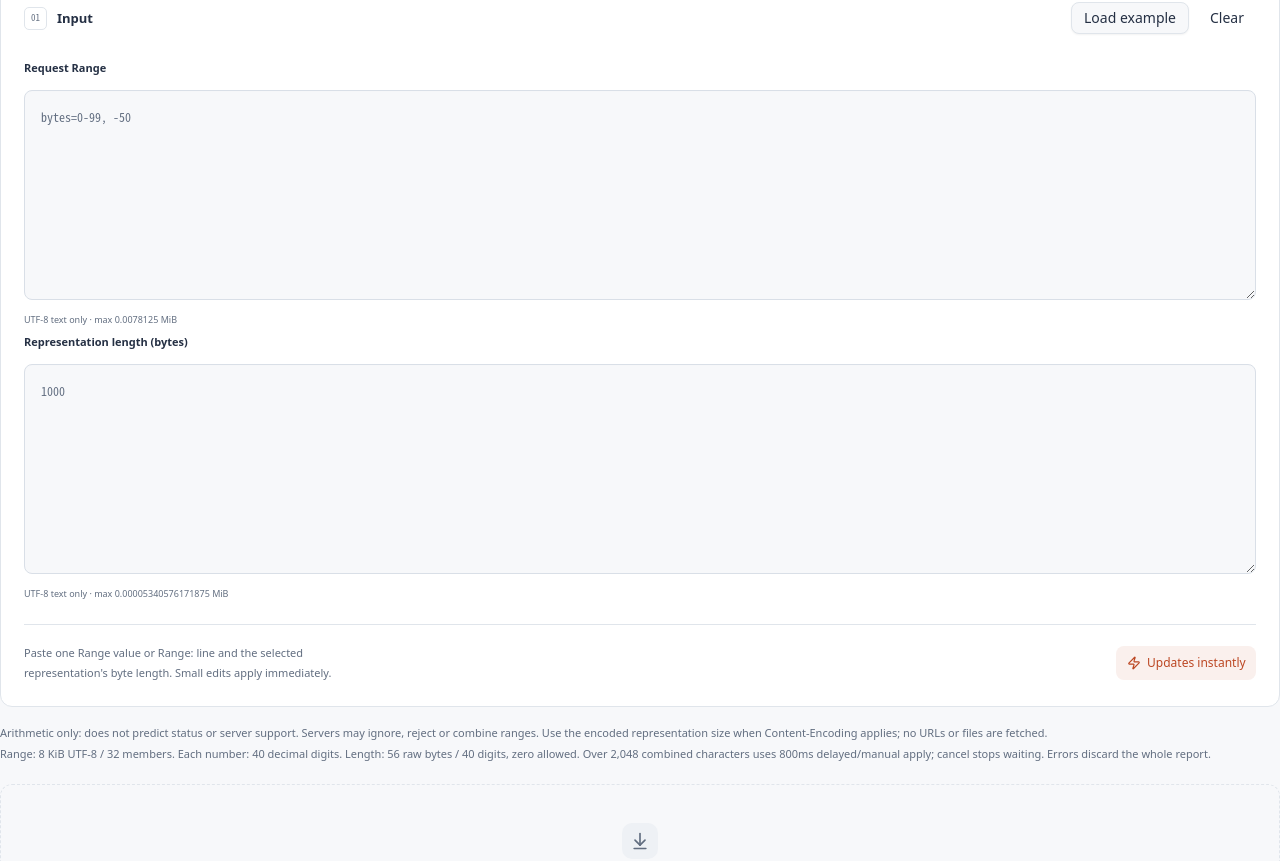
HTTP byte range Vapor view › shows empty suffix semantics without negative offsets and exact large values
Type "bytes=-1" into the text box with id "http-range-input" at (640, 195), box [24,90,1256,300]
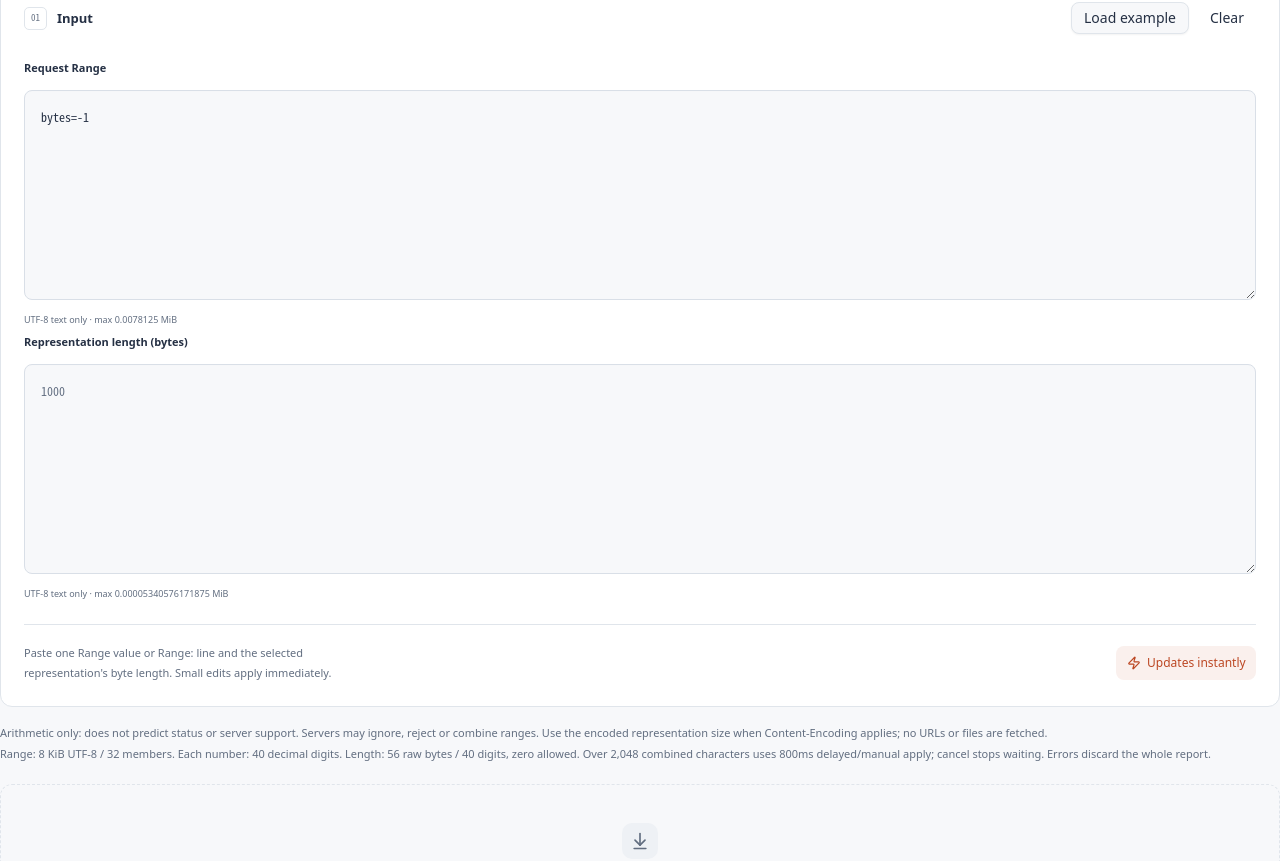
Type "0" into the text box with id "http-range-length" at (640, 469), box [24,364,1256,574]
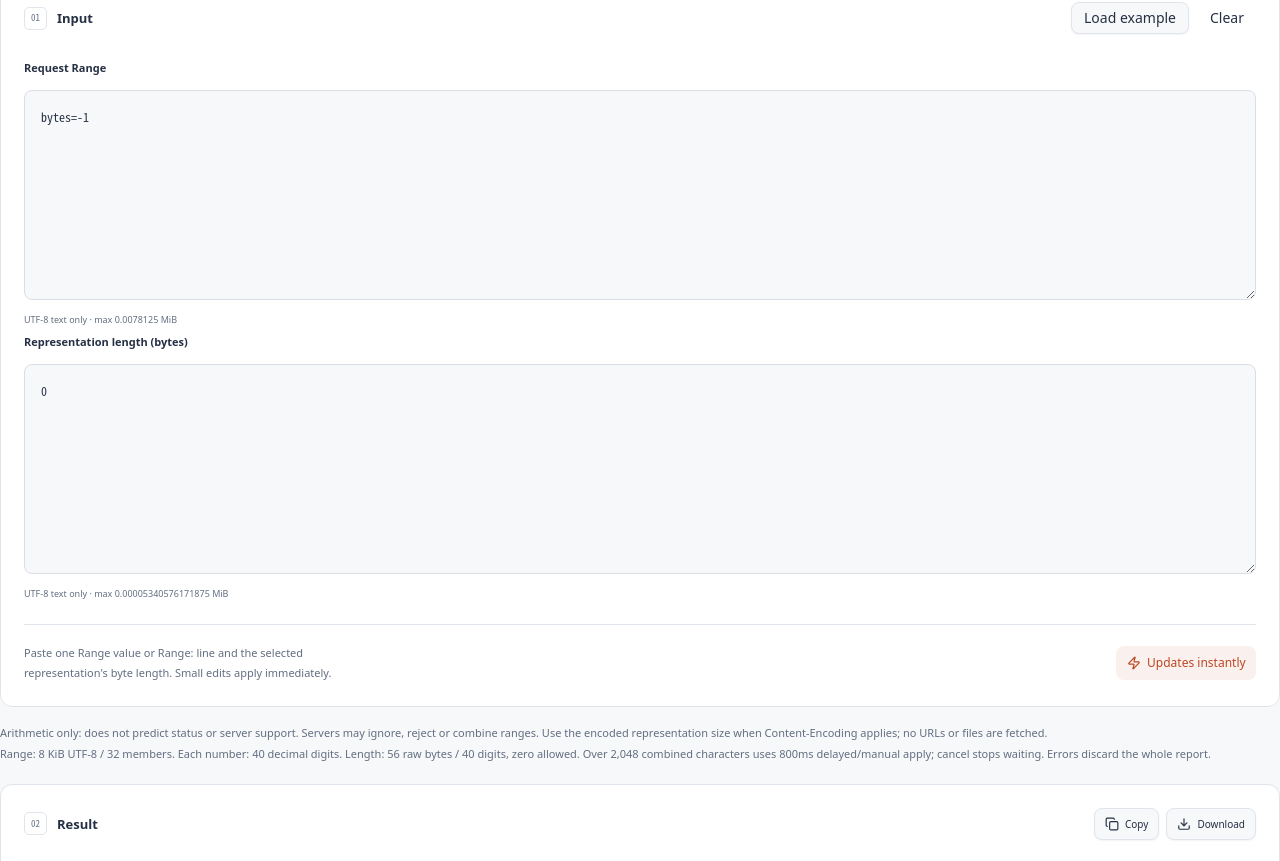
Replace the text in the text box with id "http-range-length" with "9007199254740997" at (640, 469), box [24,364,1256,574]
(page scrolled)
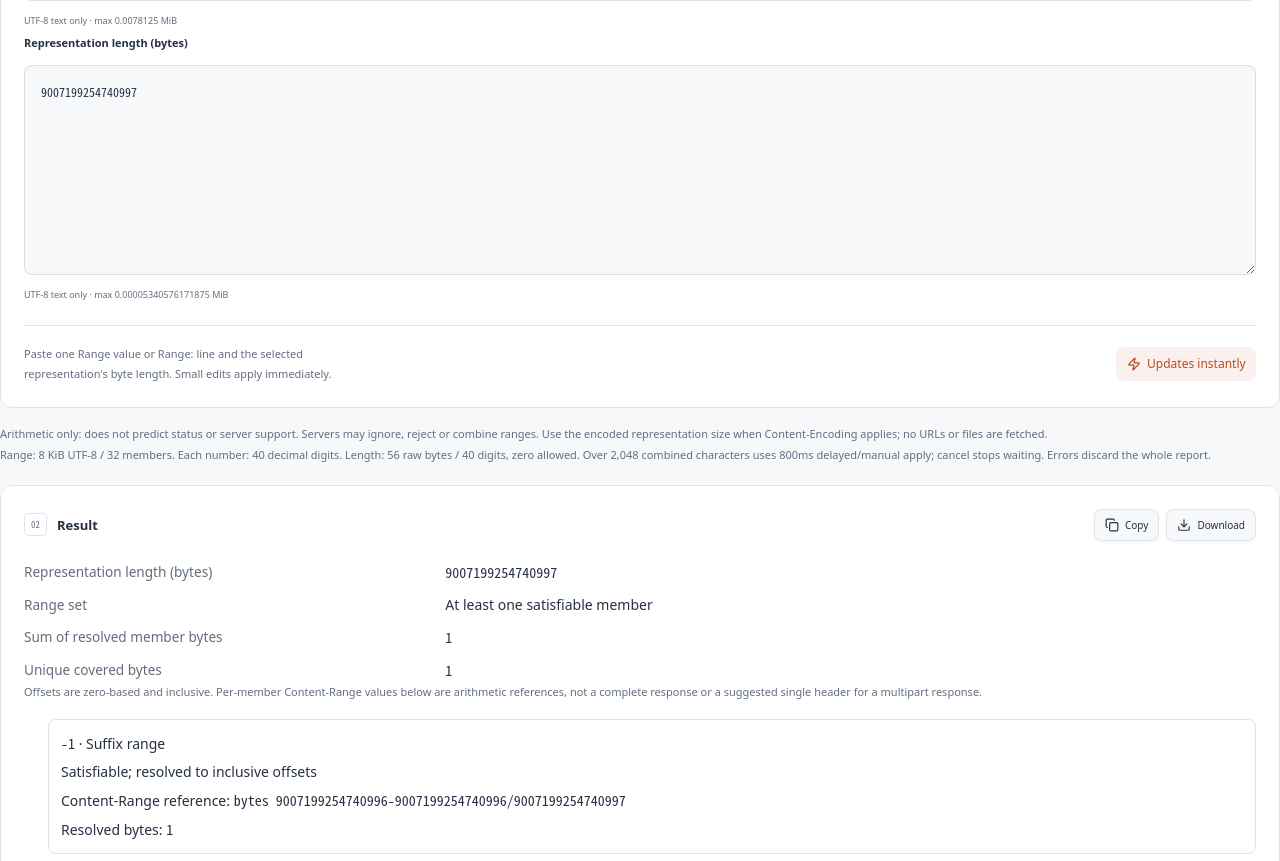
Now the element with test id "range-result" shows "bytes 9007199254740996-9007199254740996/9007199254740997", box [234,790,626,810]
